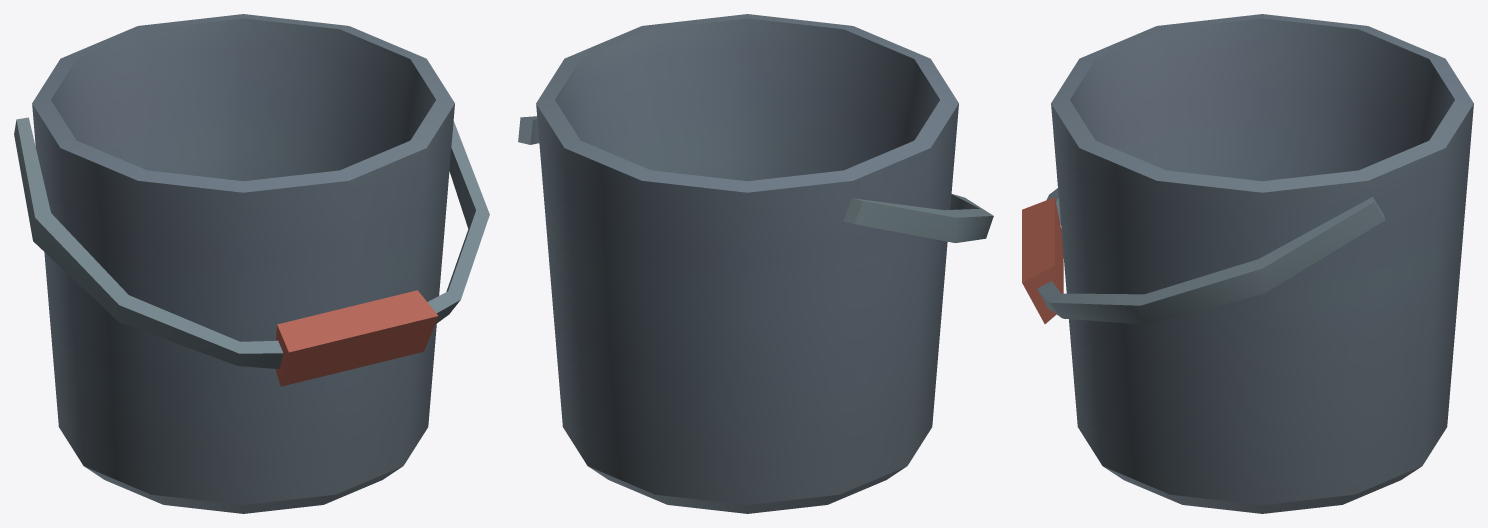
File: Bucket.glb
The picture shows the model from 3 angles, left to right: view 1: azimuth 30°, elevation 25°; view 2: azimuth 150°, elevation 25°; view 3: azimuth 270°, elevation 25°; orthographic projection.
Parts seen in each view (by area): view 1: Prop_Bucket; view 2: Prop_Bucket; view 3: Prop_Bucket.
Part boxes in pixels (left/top/right/bottom): Prop_Bucket: left=14, top=14, right=489, bottom=513; Prop_Bucket: left=518, top=14, right=993, bottom=513; Prop_Bucket: left=1022, top=14, right=1473, bottom=513.
Size of the model in its own units: 0.6633 by 0.5248 by 0.6205.
Materials: 1 (1 with a texture image).
